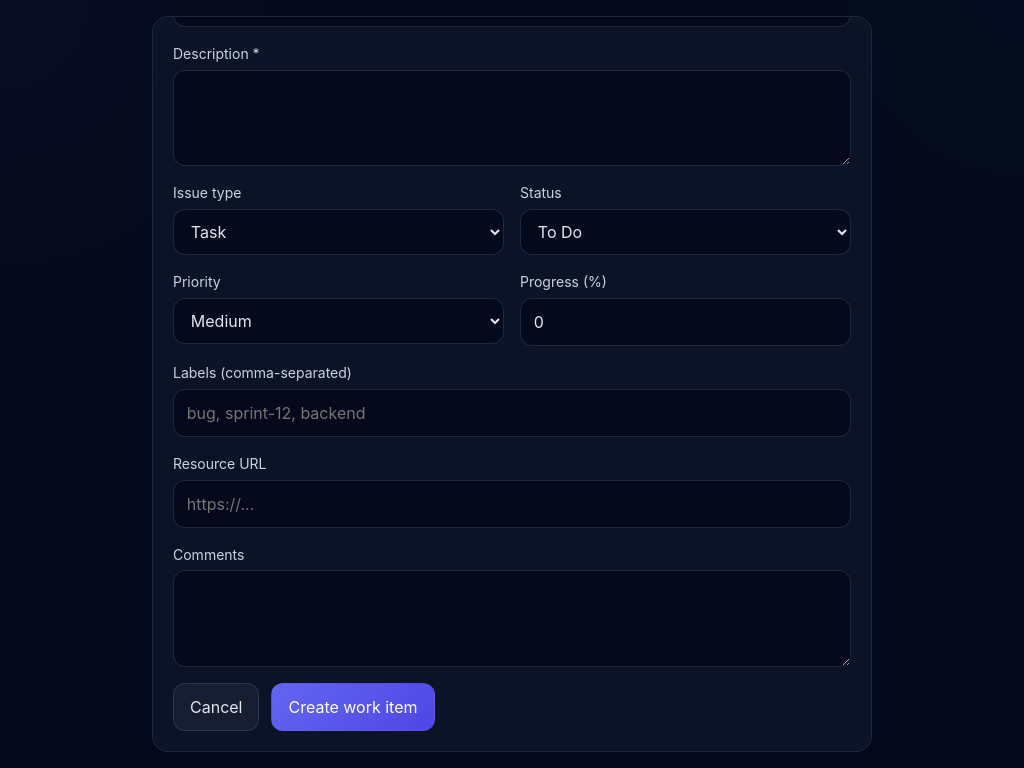
Test: ProjectForm › shows validation errors for empty submit
(page scrolled)
Click the button "Create work item": {"x": 353, "y": 707} left=272, top=683, right=435, bottom=731
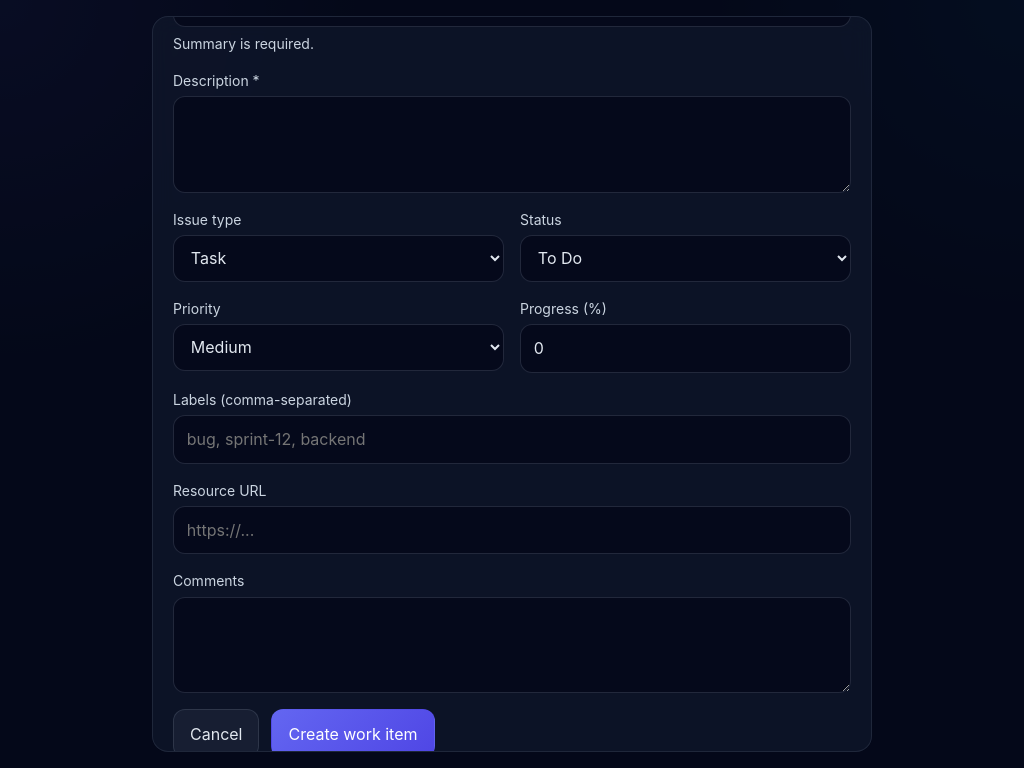
Check: the text "Summary is required." is shown, box left=173, top=35, right=314, bottom=52
